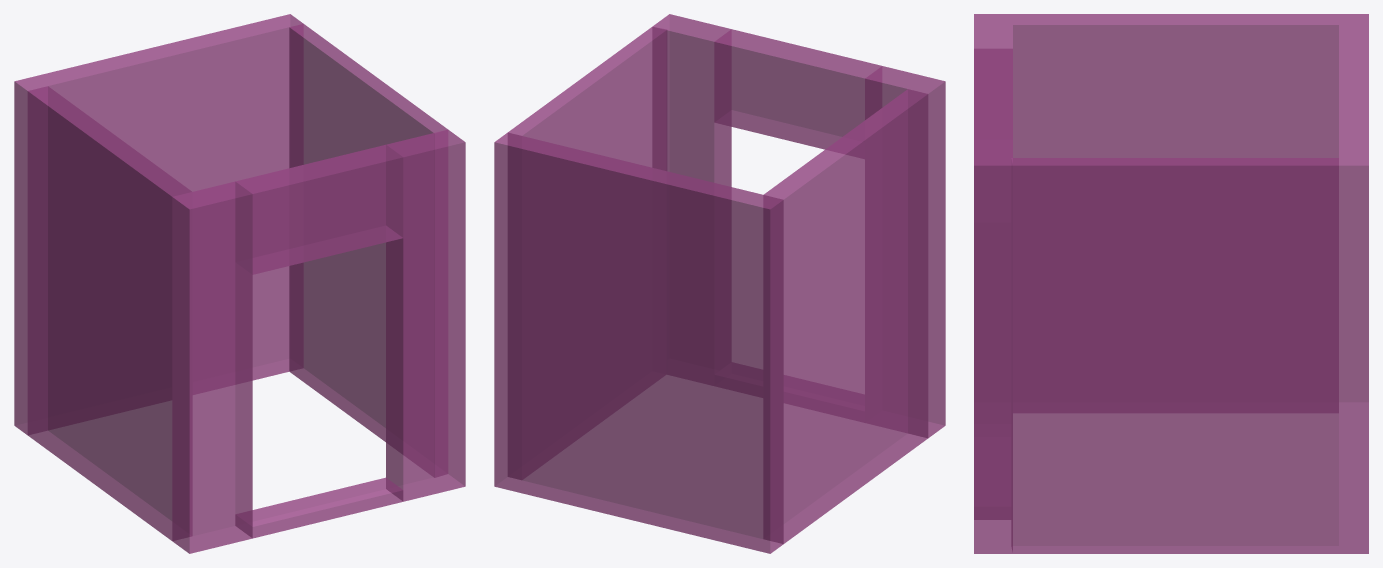
Rendered from SM_Bld_Wall_Elevator_01_Collision.fbx.
The picture shows the model from 3 angles, left to right: view 1: azimuth 30°, elevation 25°; view 2: azimuth 150°, elevation 25°; view 3: azimuth 270°, elevation 25°; orthographic projection. The views are drawn at different scales.
Visible parts, largest first — view 1: SM_Bld_Wall_Elevator_01_Collision; view 2: SM_Bld_Wall_Elevator_01_Collision; view 3: SM_Bld_Wall_Elevator_01_Collision.
Part boxes in pixels (bbox=[...]): SM_Bld_Wall_Elevator_01_Collision: bbox=[14, 14, 465, 553]; SM_Bld_Wall_Elevator_01_Collision: bbox=[494, 14, 945, 553]; SM_Bld_Wall_Elevator_01_Collision: bbox=[974, 14, 1368, 553].
Bounding box in the file's own units: 254 × 303 × 280.
